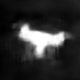plane: (11, 21, 73, 63)
